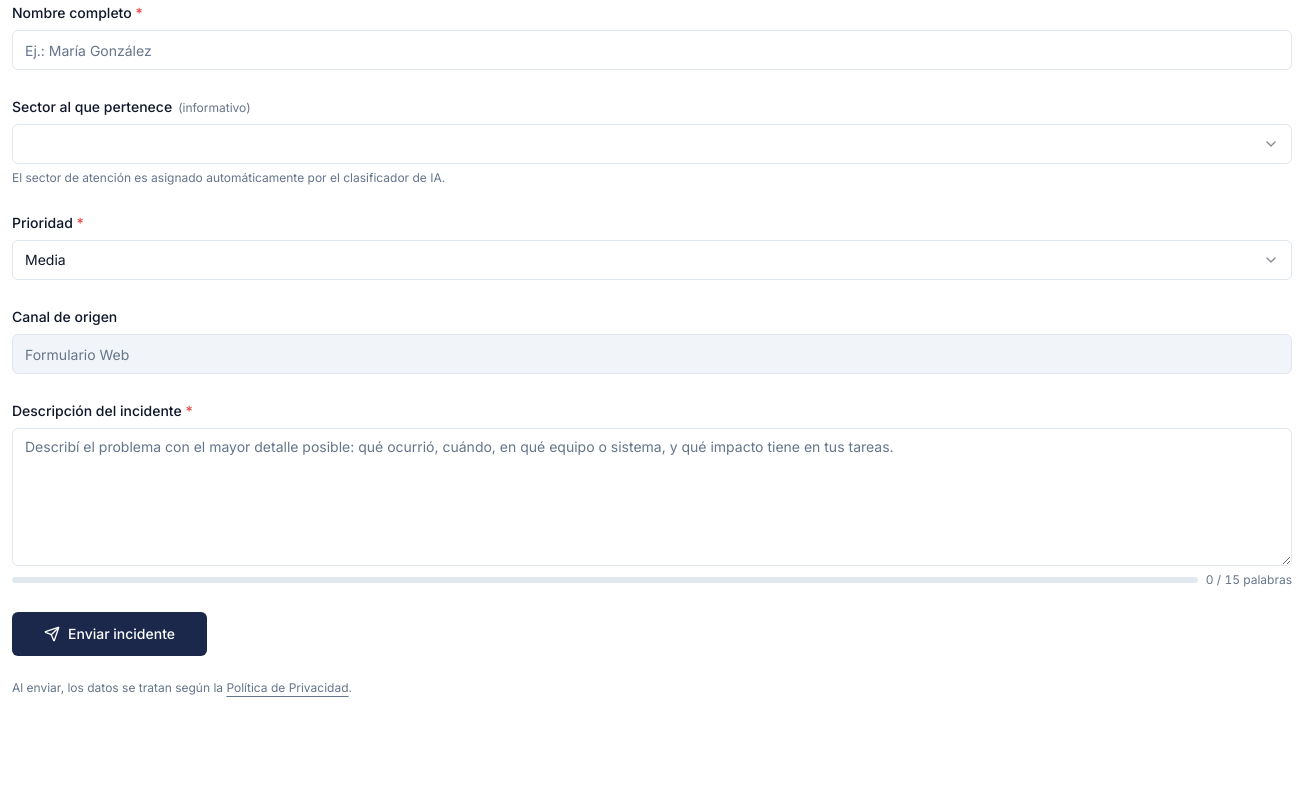
Test case: IncidenteForm - prioridad (c-90) › no ofrece la opcion critica entre las prioridades seleccionables
Click the dropdown labelled "Media" at coordinates (45, 260), box [12,240,1292,280]
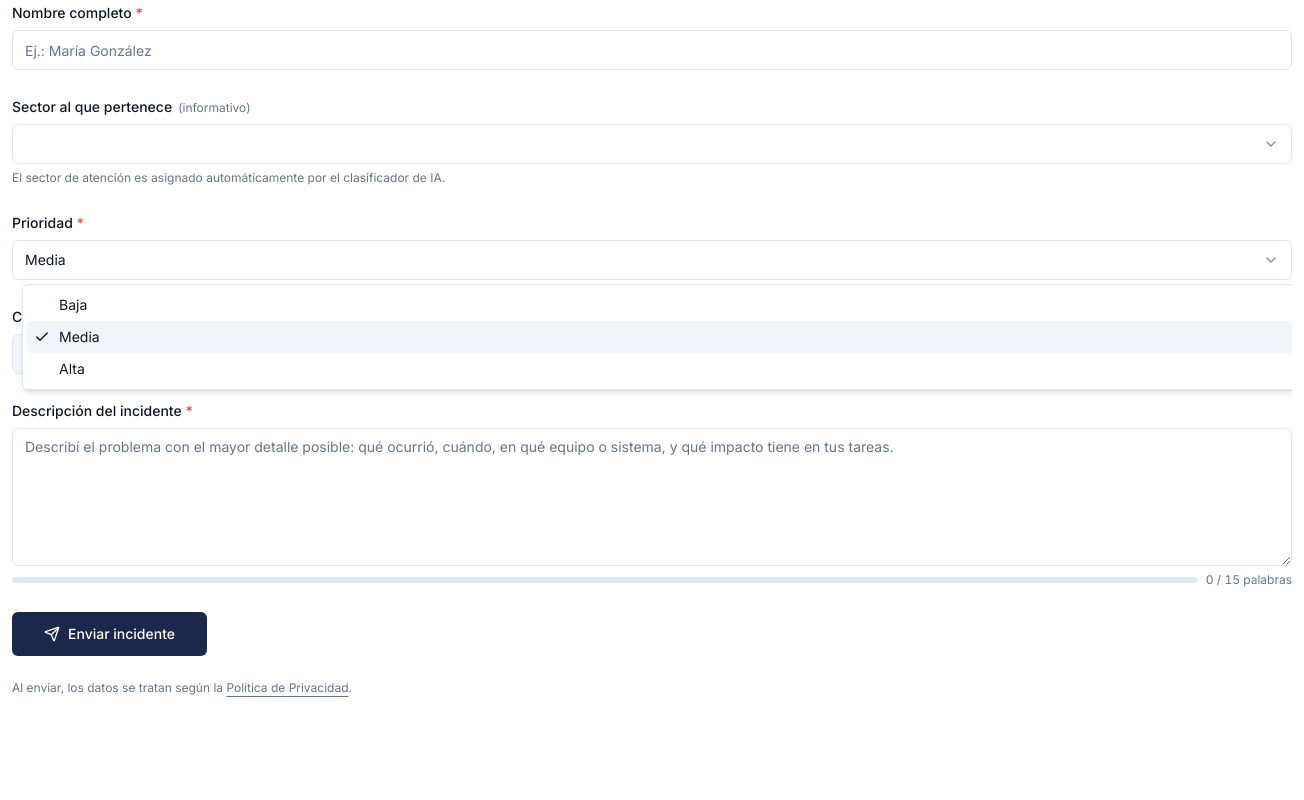
Expected: the option "Baja" is shown, [59,296,87,313]
Expected: the option "Alta" is shown, [59,360,85,377]
